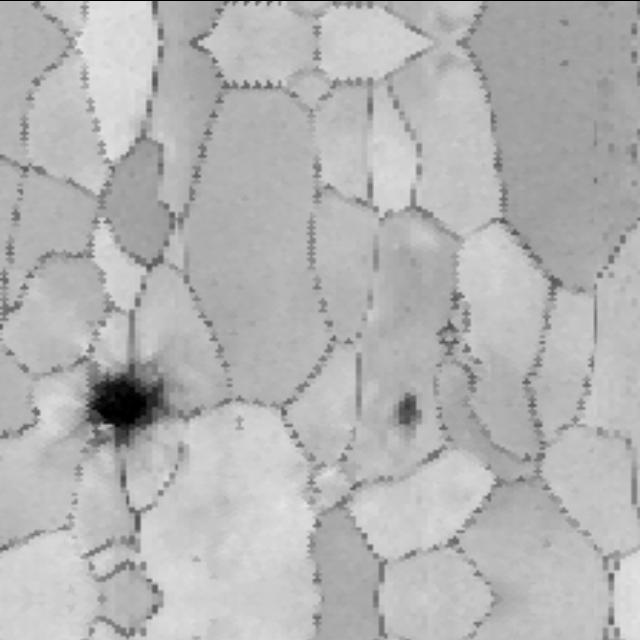good_void: (81, 349, 203, 453), (382, 384, 428, 456), (234, 411, 249, 433)
